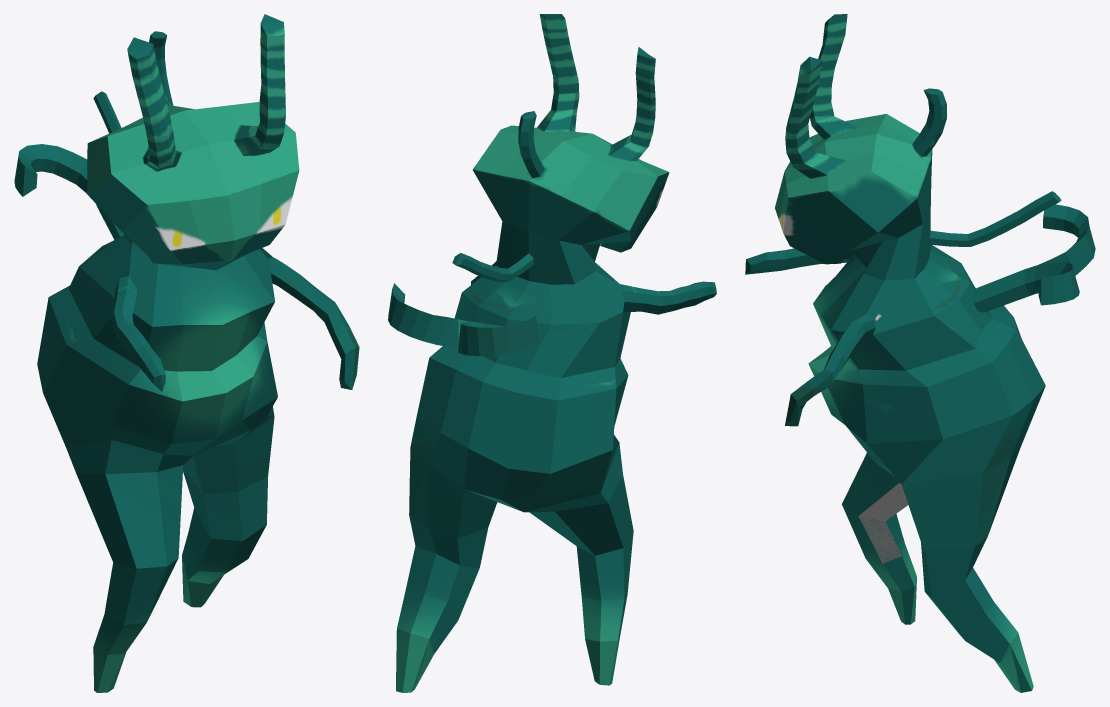
Rendered from monstruo1_caminar_17.obj.
The picture shows the model from 3 angles, left to right: view 1: azimuth 30°, elevation 25°; view 2: azimuth 150°, elevation 25°; view 3: azimuth 270°, elevation 25°; orthographic projection. The views are drawn at different scales.
Visible parts, largest first — view 1: Monstruo_basico; view 2: Monstruo_basico; view 3: Monstruo_basico.
Part boxes in pixels (x1=…): Monstruo_basico: x1=14, y1=14, x2=359, y2=692; Monstruo_basico: x1=388, y1=14, x2=716, y2=692; Monstruo_basico: x1=745, y1=14, x2=1095, y2=692.
Size of the model in its own units: 0.3649 by 1.02 by 0.532.
